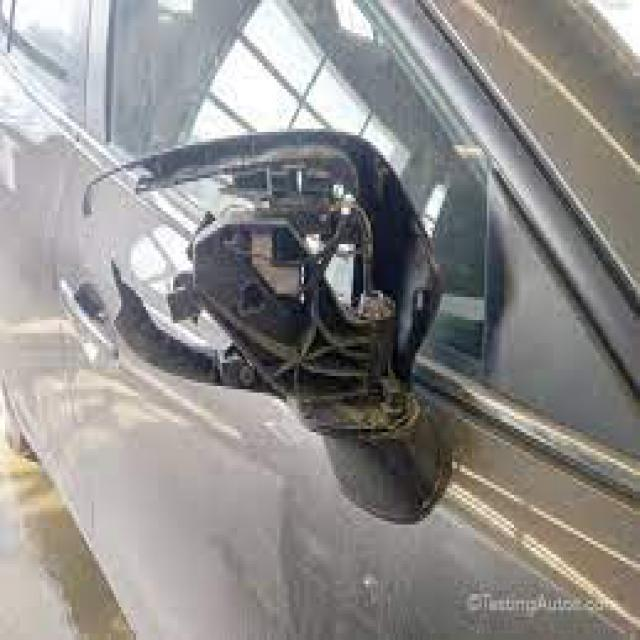Sidemirror-Damage: (79, 152, 442, 406)
